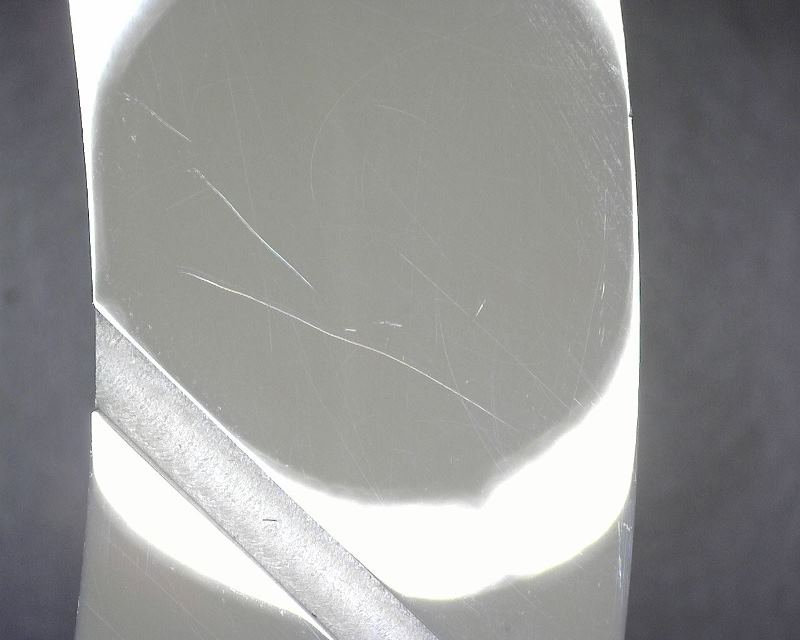scratch: (188, 167, 320, 286), (358, 342, 506, 423), (226, 290, 331, 342), (122, 91, 193, 145), (601, 183, 611, 348), (616, 521, 626, 591), (376, 317, 406, 331), (475, 295, 490, 319), (342, 325, 359, 333)
